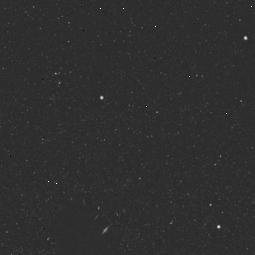earth_observation_sat_1: (33, 188, 133, 255)
